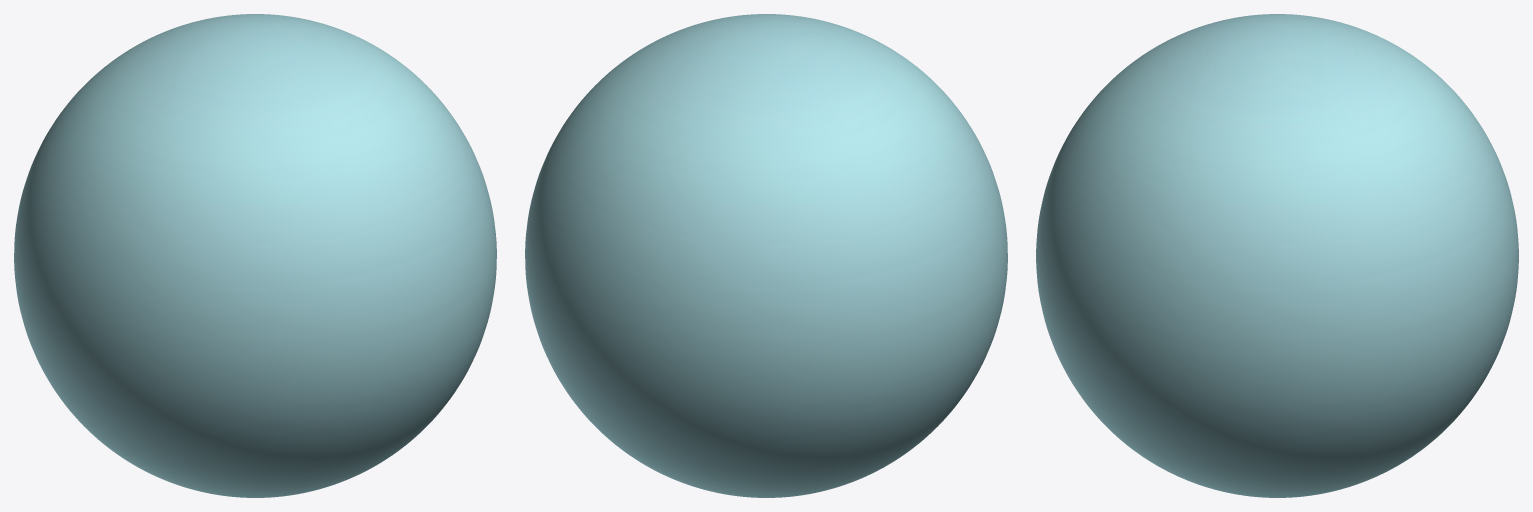
The model's file is Uranus.compressed.glb.
3 views of the same model, side by side, from view 1: azimuth 30°, elevation 25°; view 2: azimuth 150°, elevation 25°; view 3: azimuth 270°, elevation 25° (orthographic).
Visible parts, largest first — view 1: Uranus; view 2: Uranus; view 3: Uranus.
Boxes of the visible parts, x1,y1,x2,y2 form: Uranus: (14, 14, 496, 497); Uranus: (525, 14, 1007, 497); Uranus: (1036, 14, 1518, 497).
Size of the model in its own units: 1.99 by 2 by 1.99.
1 material, 1 textured.
